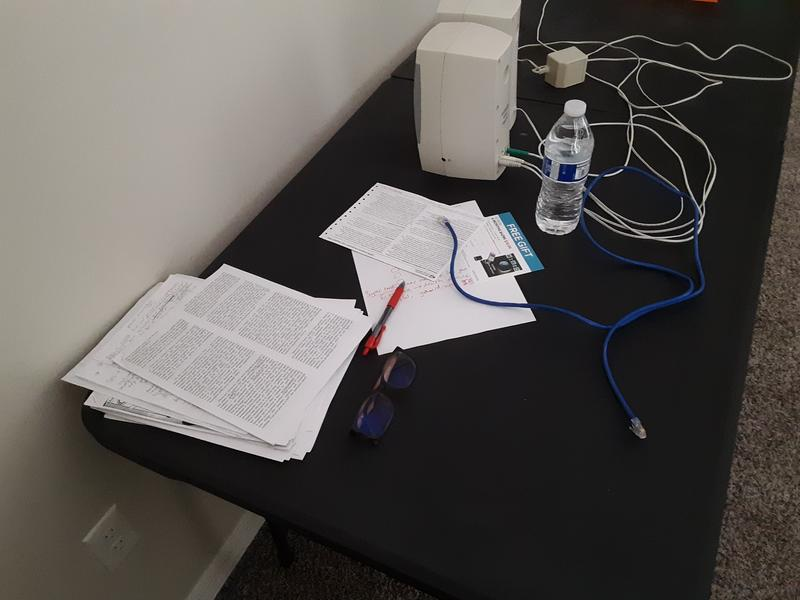glasses: (347, 344, 422, 442)
